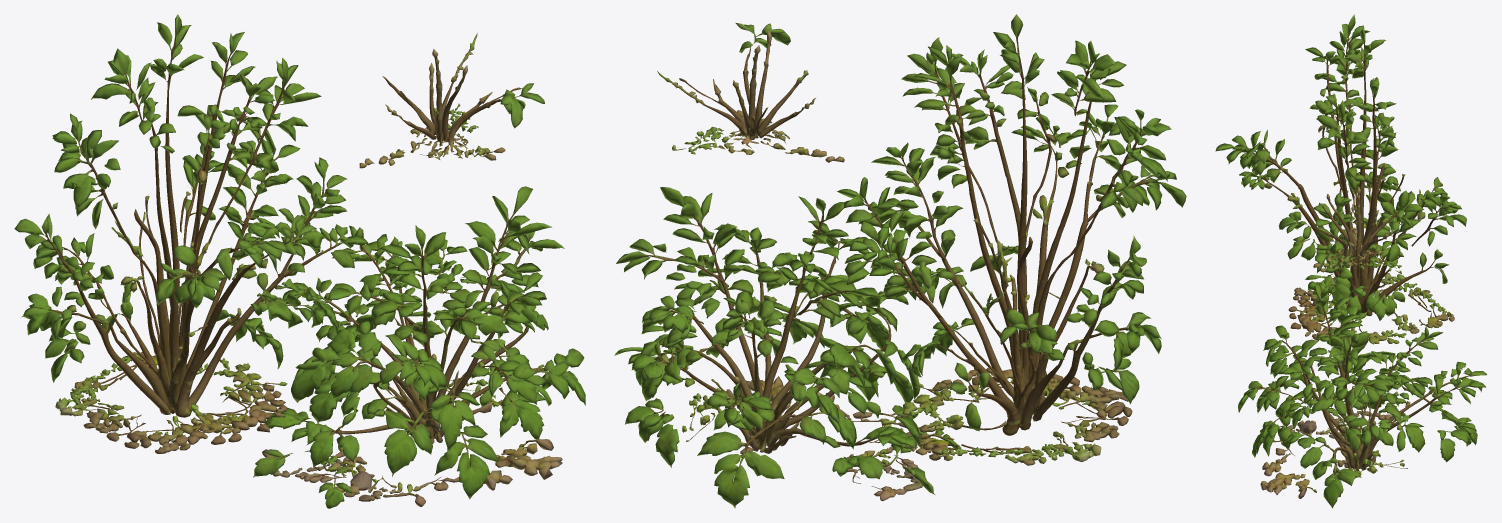
The model's file is shrub.glb.
The picture shows the model from 3 angles, left to right: view 1: azimuth 30°, elevation 25°; view 2: azimuth 150°, elevation 25°; view 3: azimuth 270°, elevation 25°; orthographic projection. The views are drawn at different scales.
Parts seen in each view (by area): view 1: model; view 2: model; view 3: model.
Boxes of the visible parts, <box> form: model: <box>14,14,585,508</box>; model: <box>614,14,1186,508</box>; model: <box>1215,14,1486,508</box>.
Size of the model in its own units: 1.9 by 1.61 by 1.12.
Materials: 1 (1 with a texture image).
